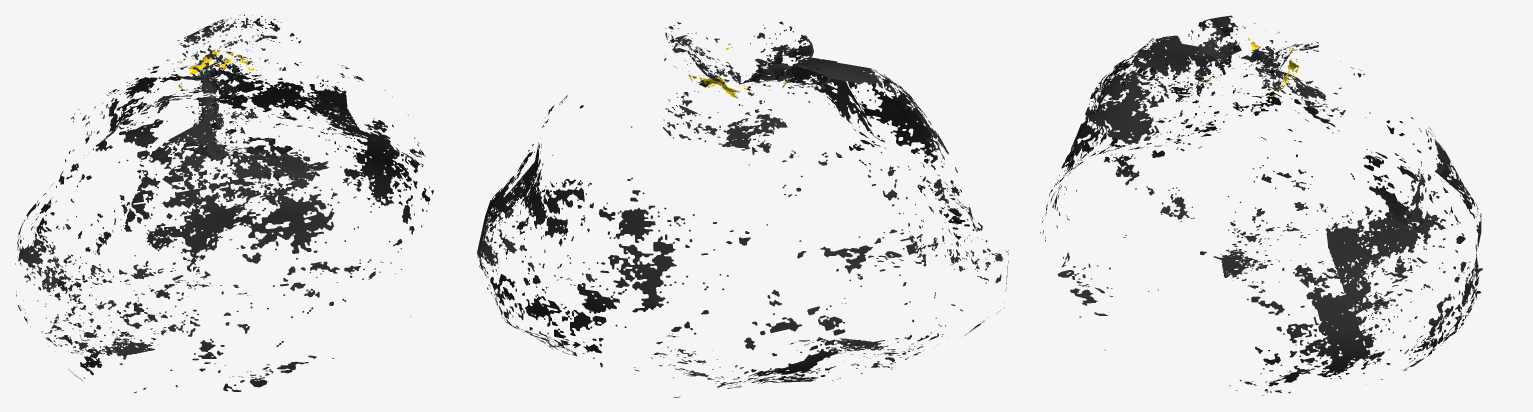
File: trashbag.obj
The picture shows the model from 3 angles, left to right: view 1: azimuth 30°, elevation 25°; view 2: azimuth 150°, elevation 25°; view 3: azimuth 270°, elevation 25°; orthographic projection. The views are drawn at different scales.
Parts seen in each view (by area): view 1: bag4Shape_bag4Shape; view 2: bag4Shape_bag4Shape; view 3: bag4Shape_bag4Shape.
Part boxes in pixels (<box>): bag4Shape_bag4Shape: <box>15,14,433,393</box>; bag4Shape_bag4Shape: <box>477,21,1008,397</box>; bag4Shape_bag4Shape: <box>1040,15,1482,395</box>.
Size of the model in its own units: 66.55 by 43.33 by 63.77.
